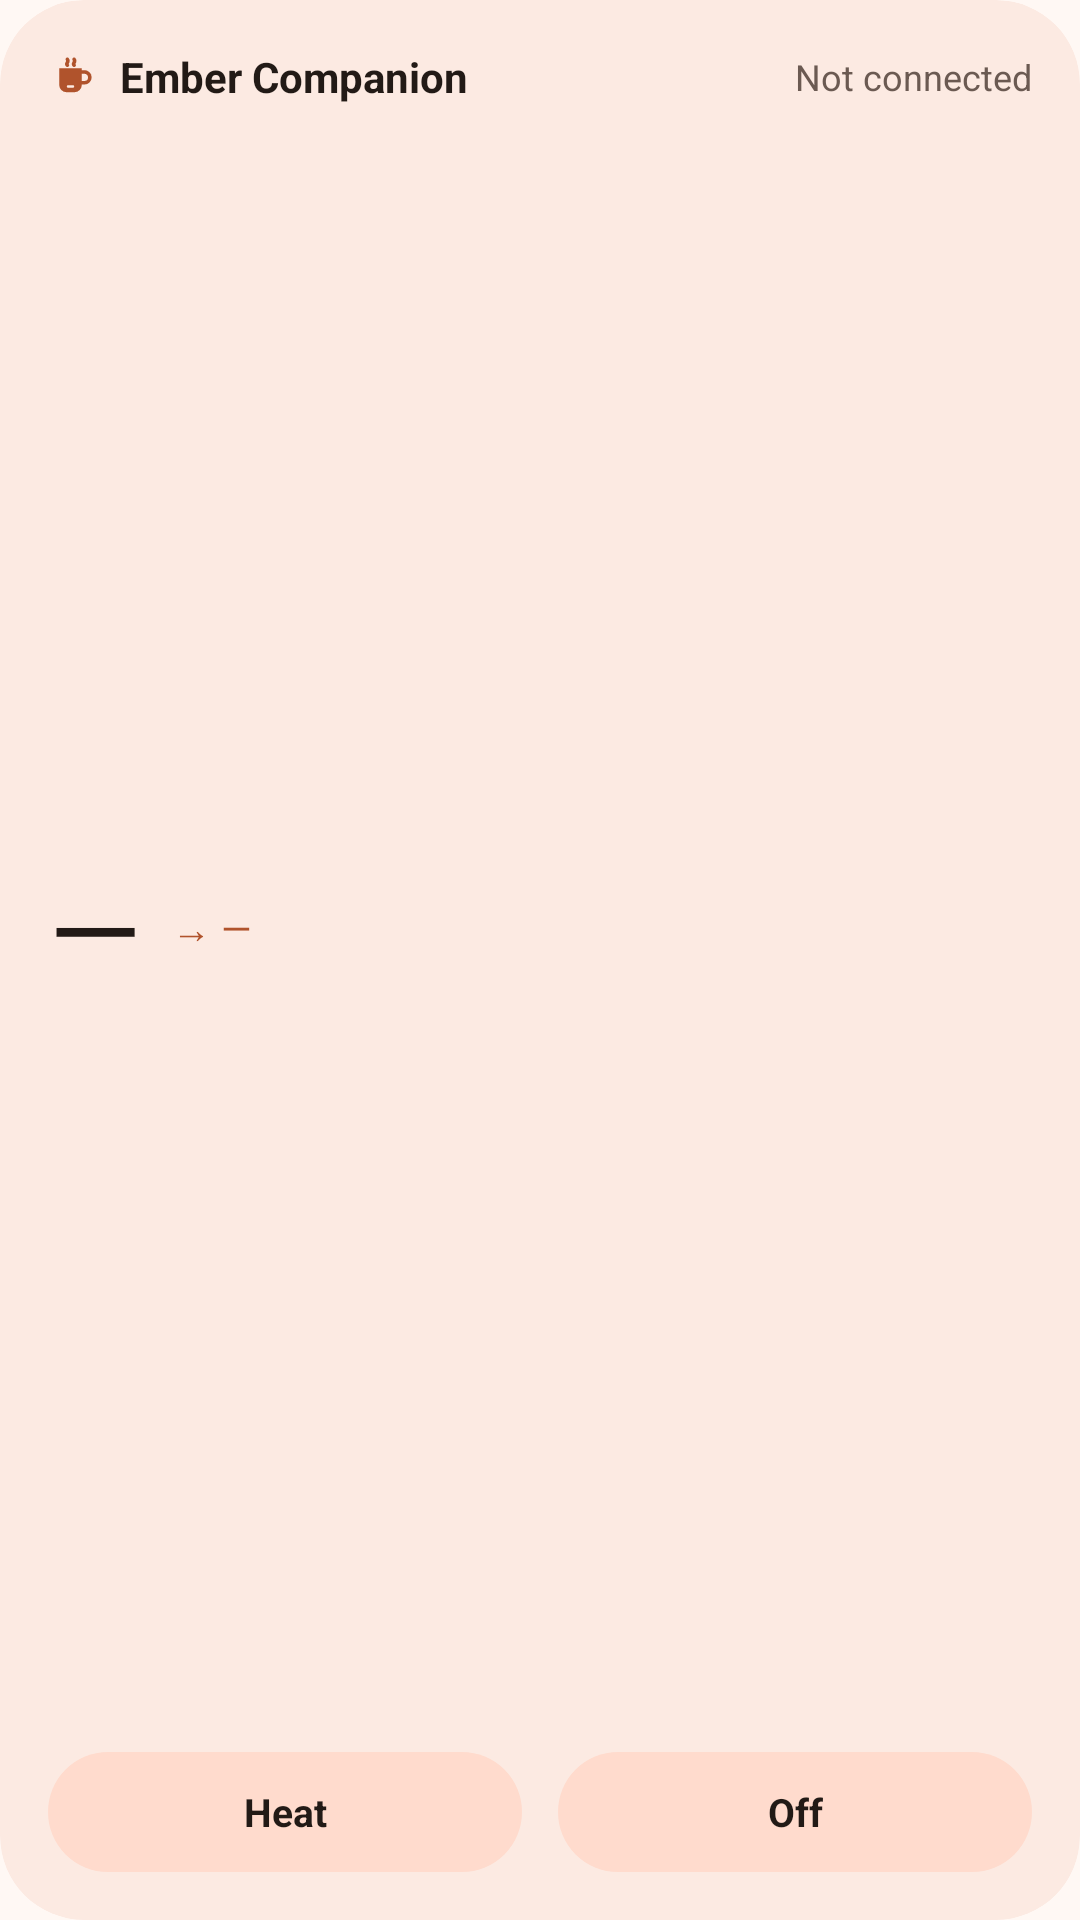

Icons on this 1080 x 1920 Android screen, each with the point to tap as (x=x, y=y):
mug notification: (x=75, y=75)
